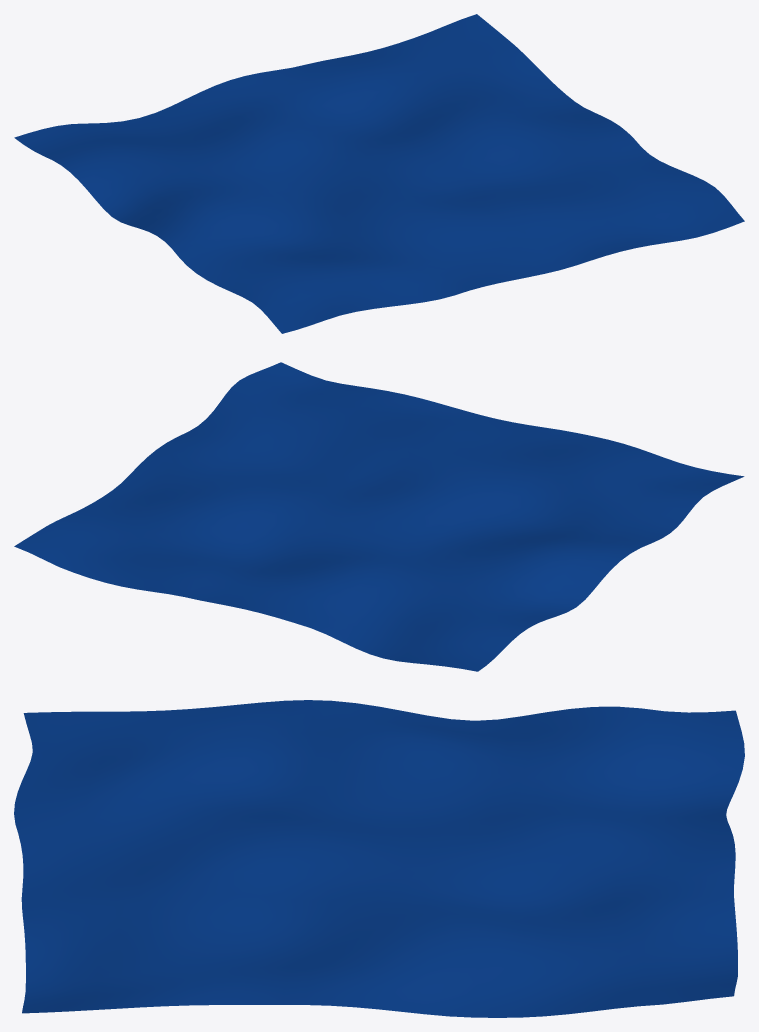
File: wave_3.obj
The picture shows the model from 3 angles, top to bottom: view 1: azimuth 30°, elevation 25°; view 2: azimuth 150°, elevation 25°; view 3: azimuth 270°, elevation 25°; orthographic projection. The views are drawn at different scales.
Parts seen in each view (by area): view 1: Plane001; view 2: Plane001; view 3: Plane001.
Part boxes in pixels (x1,y1,x2,y2): Plane001: (14, 14, 744, 333); Plane001: (14, 362, 744, 671); Plane001: (14, 700, 744, 1017).
Size of the model in its own units: 404 by 17.02 by 404.
